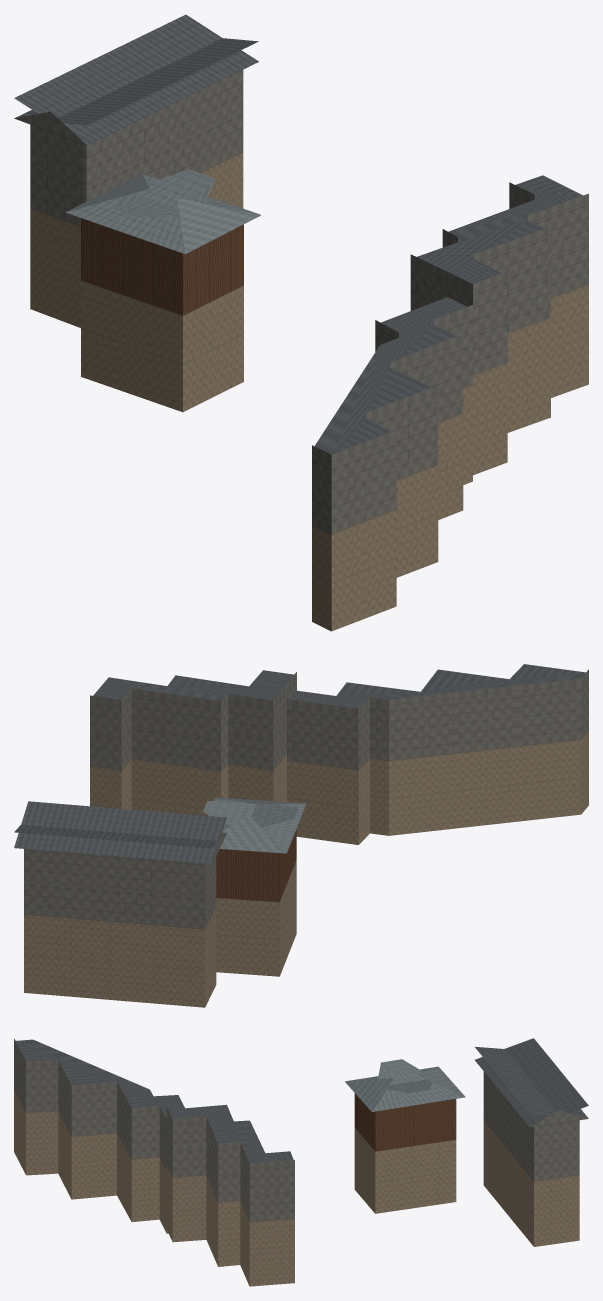
File: bld_c1_-1_534.gltf
The picture shows the model from 3 angles, top to bottom: view 1: azimuth 30°, elevation 25°; view 2: azimuth 150°, elevation 25°; view 3: azimuth 270°, elevation 25°; orthographic projection. The views are drawn at different scales.
Visible parts, largest first — view 1: bld_c1_-1_534; view 2: bld_c1_-1_534; view 3: bld_c1_-1_534.
Boxes of the visible parts, left/top/right/bottom form: bld_c1_-1_534: left=14, top=14, right=588, bottom=631; bld_c1_-1_534: left=14, top=664, right=588, bottom=1007; bld_c1_-1_534: left=14, top=1038, right=588, bottom=1286.
Bounding box in the file's own units: 22.85 × 10.8 × 39.64.
Materials: 6 (6 with a texture image).
